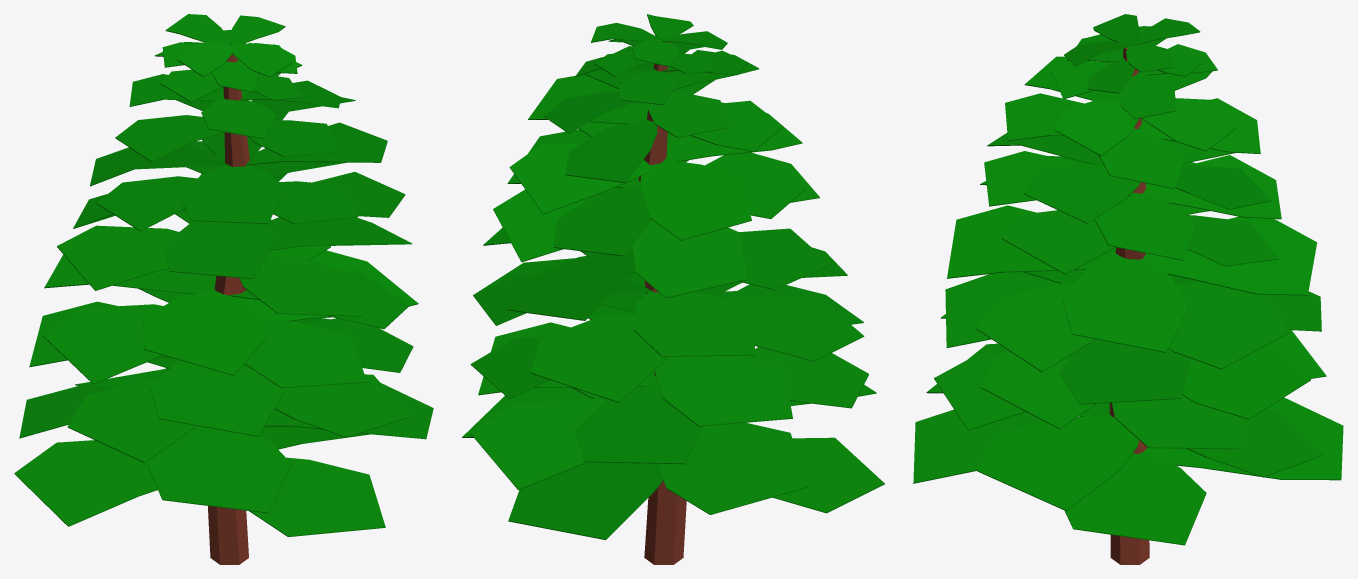
File: Tree_4a.fbx
3 views of the same model, side by side, from view 1: azimuth 30°, elevation 25°; view 2: azimuth 150°, elevation 25°; view 3: azimuth 270°, elevation 25° (orthographic).
Parts seen in each view (by area): view 1: Tree_4a; view 2: Tree_4a; view 3: Tree_4a.
Part boxes in pixels (<box>): Tree_4a: <box>14,14,433,564</box>; Tree_4a: <box>462,14,884,564</box>; Tree_4a: <box>913,14,1343,564</box>.
Bounding box in the file's own units: 456 × 629 × 466.
